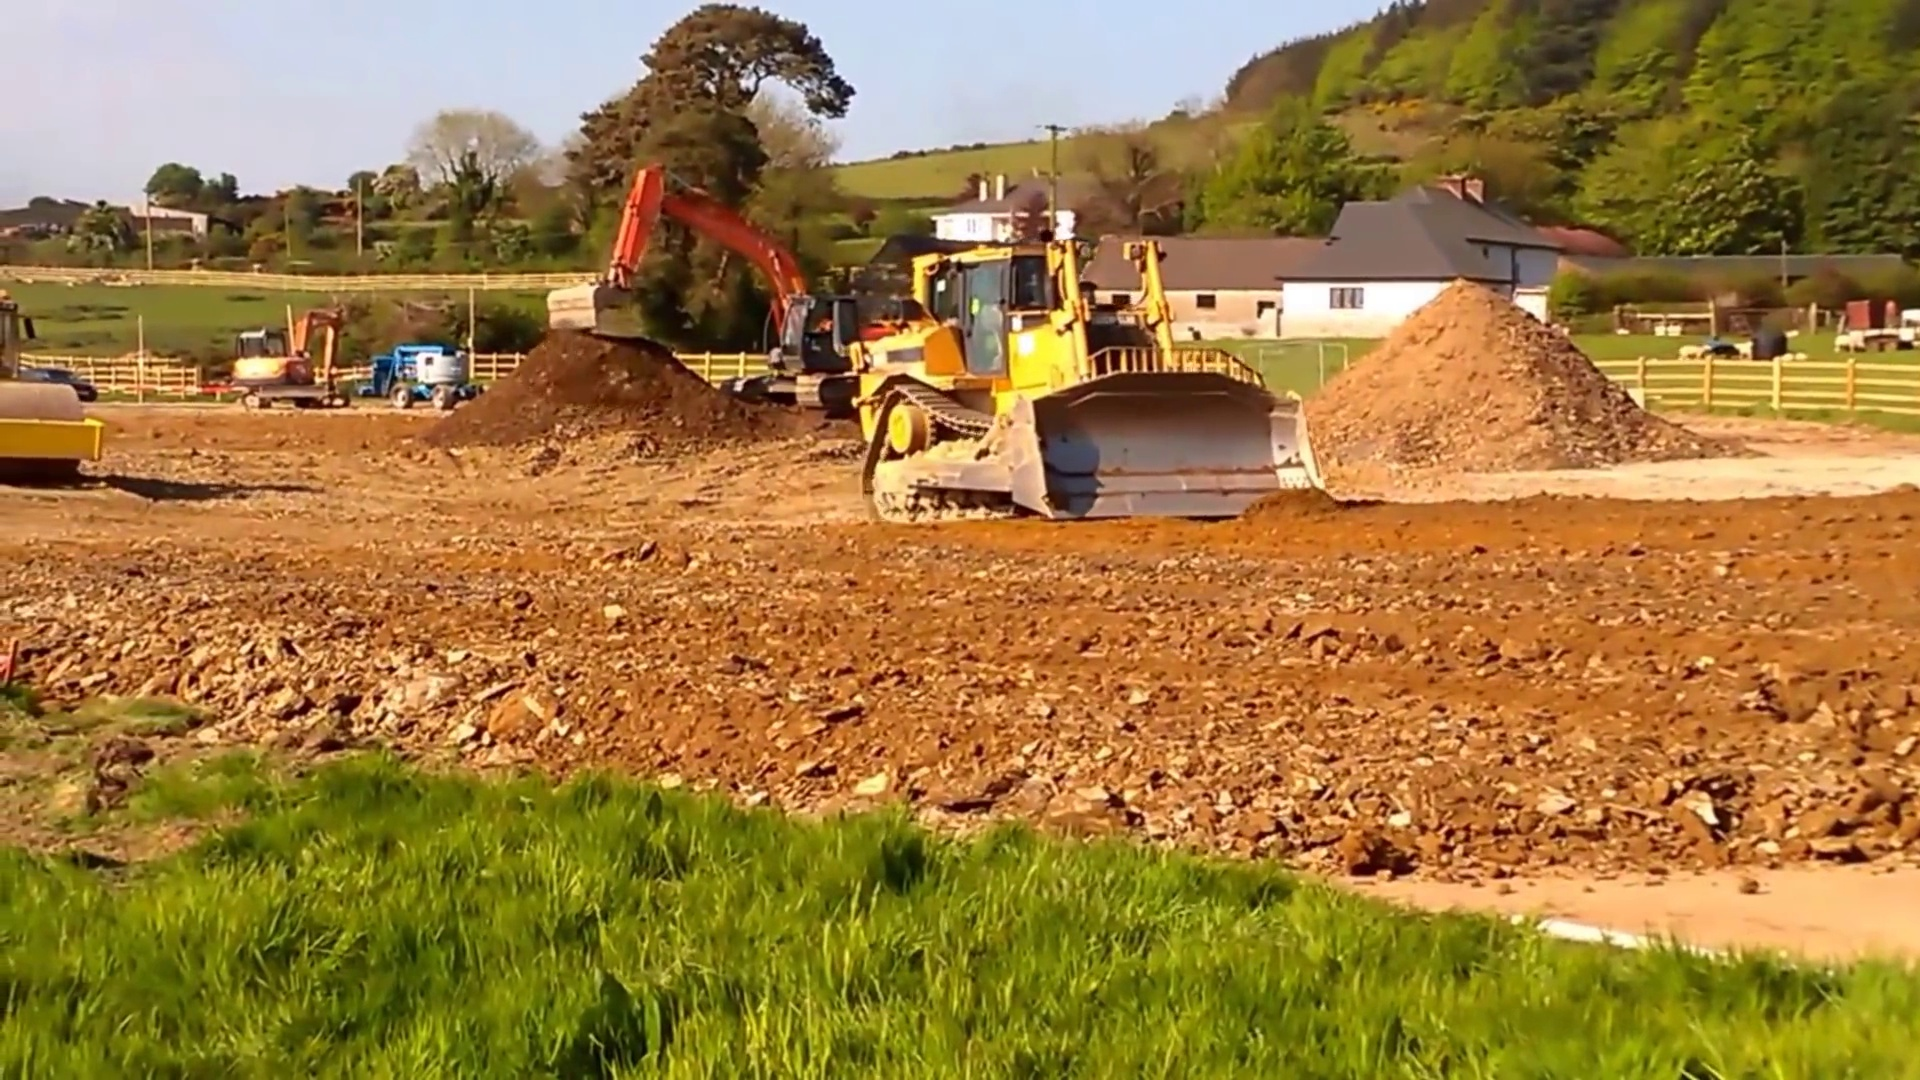bulldozer: (852, 237, 1338, 527)
excavator: (546, 164, 876, 415), (222, 305, 352, 407)
